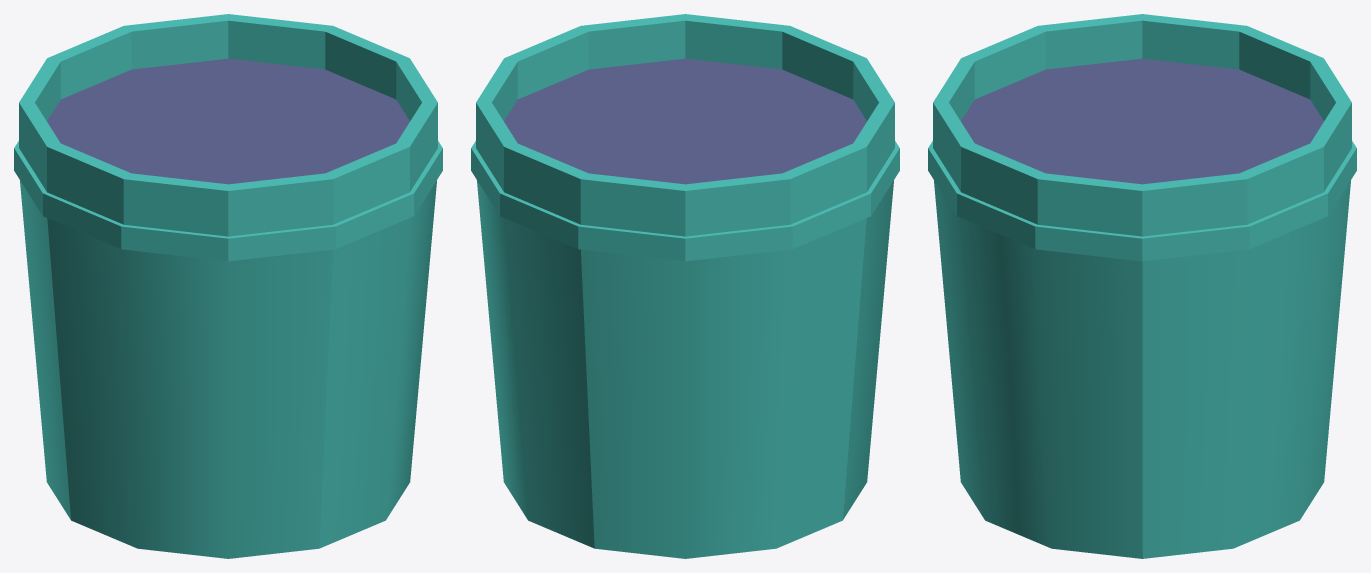
The model's file is Explosive.fbx.
3 views of the same model, side by side, from view 1: azimuth 30°, elevation 25°; view 2: azimuth 150°, elevation 25°; view 3: azimuth 270°, elevation 25° (orthographic).
Parts seen in each view (by area): view 1: Explosive; view 2: Explosive; view 3: Explosive.
Part boxes in pixels (box(x1,y1,x2,y2)): Explosive: box(14, 14, 442, 558); Explosive: box(471, 14, 899, 558); Explosive: box(928, 14, 1356, 558).
Size of the model in its own units: 2.05 by 2 by 2.05.
